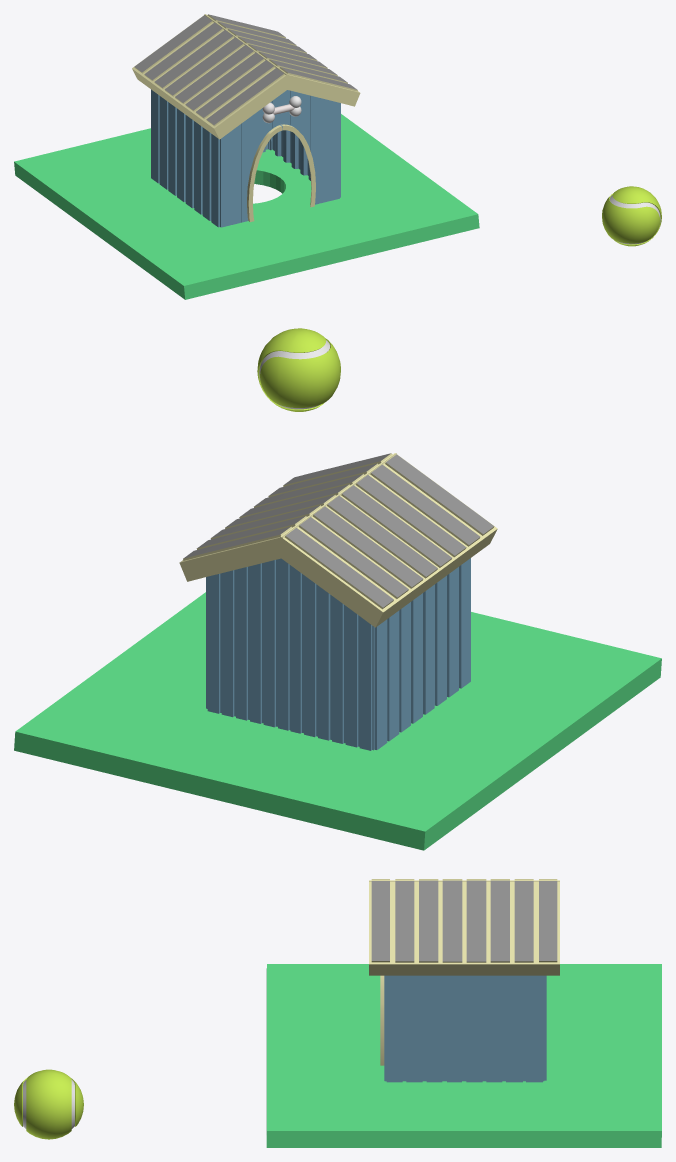
Rendered from doghouse-animatio-advanced.gltf.
3 views of the same model, one above another, from view 1: azimuth 30°, elevation 25°; view 2: azimuth 150°, elevation 25°; view 3: azimuth 270°, elevation 25° (orthographic). The views are drawn at different scales.
Visible parts, largest first — view 1: green grass, dog house, roof, tennisbal, dogbone; view 2: green grass, dog house, roof, tennisbal; view 3: green grass, roof, dog house, tennisbal.
Boxes of the visible parts, box(x1,y1,x2,y2) form: green grass: box(14, 114, 479, 299); dog house: box(151, 89, 340, 227); roof: box(132, 14, 360, 139); tennisbal: box(602, 186, 661, 246); dogbone: box(262, 96, 301, 123); green grass: box(14, 592, 661, 850); dog house: box(206, 558, 470, 750); roof: box(179, 453, 497, 627); tennisbal: box(257, 328, 340, 411); green grass: box(266, 964, 661, 1147); roof: box(369, 879, 559, 975); dog house: box(380, 975, 546, 1082); tennisbal: box(14, 1069, 83, 1139).
Bounding box in the file's own units: 6.38 × 2.54 × 8.11.
